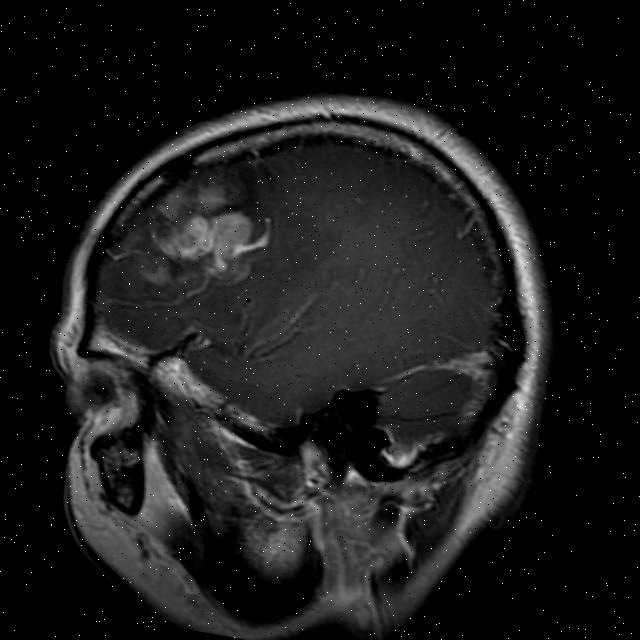Glioma: (146, 167, 280, 286)
